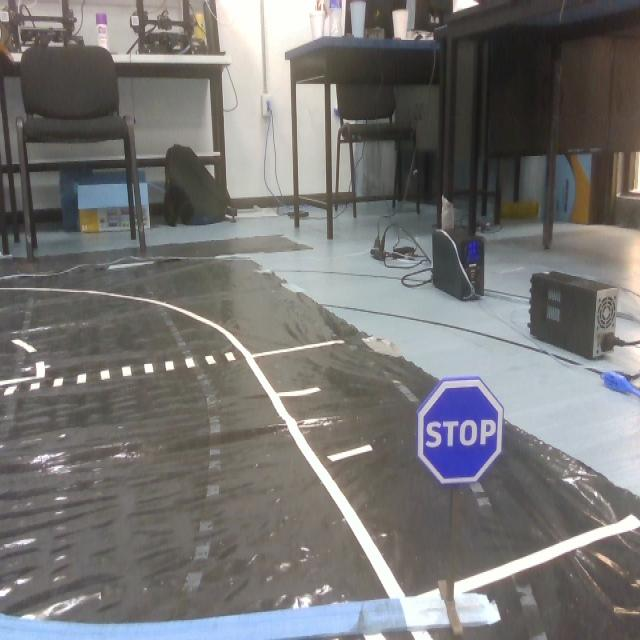no_entry: (424, 380, 502, 496)
